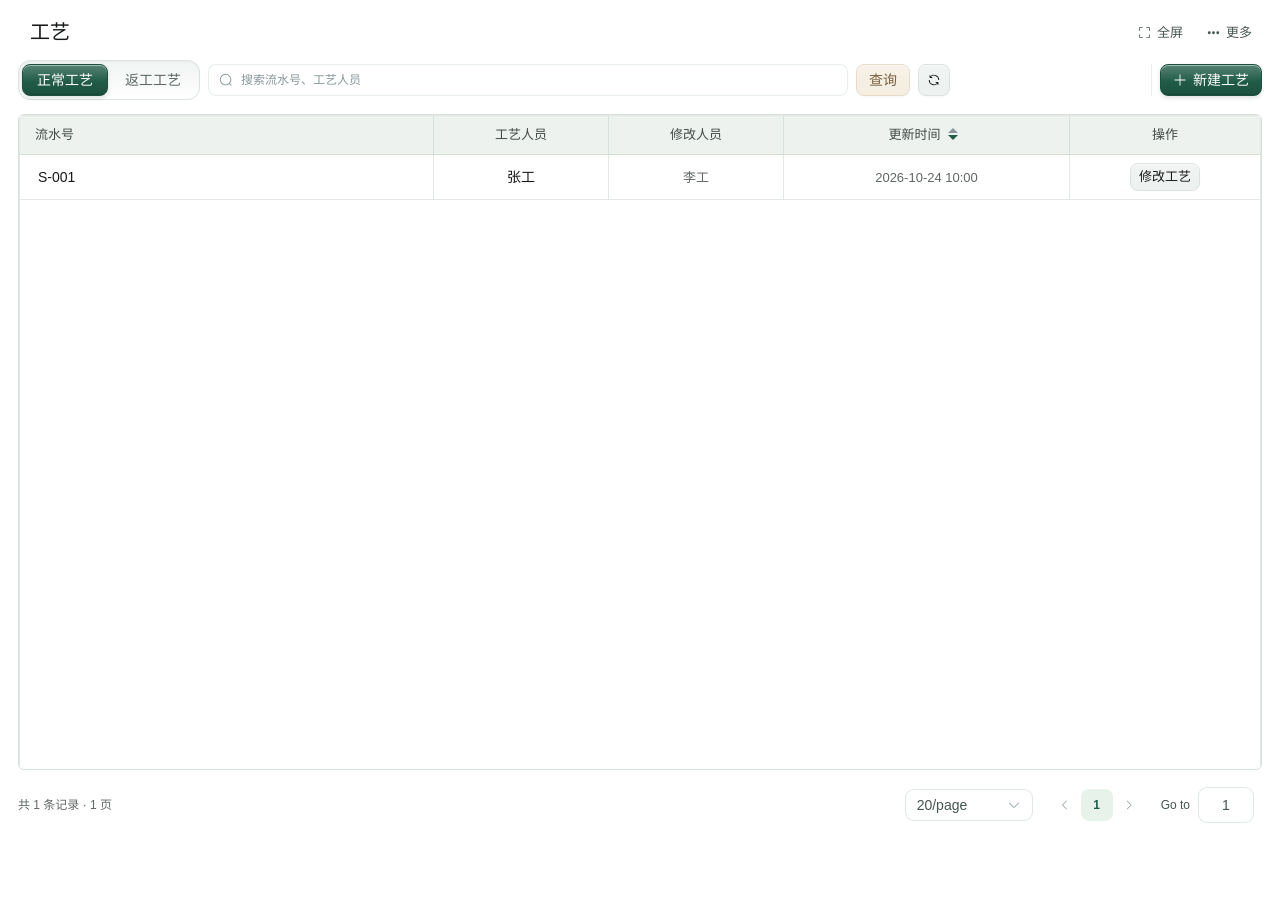
Test: shows authored rework execution teams without claiming work has finished
Click the button "返工工艺": (153, 80) 110,64 -> 196,96
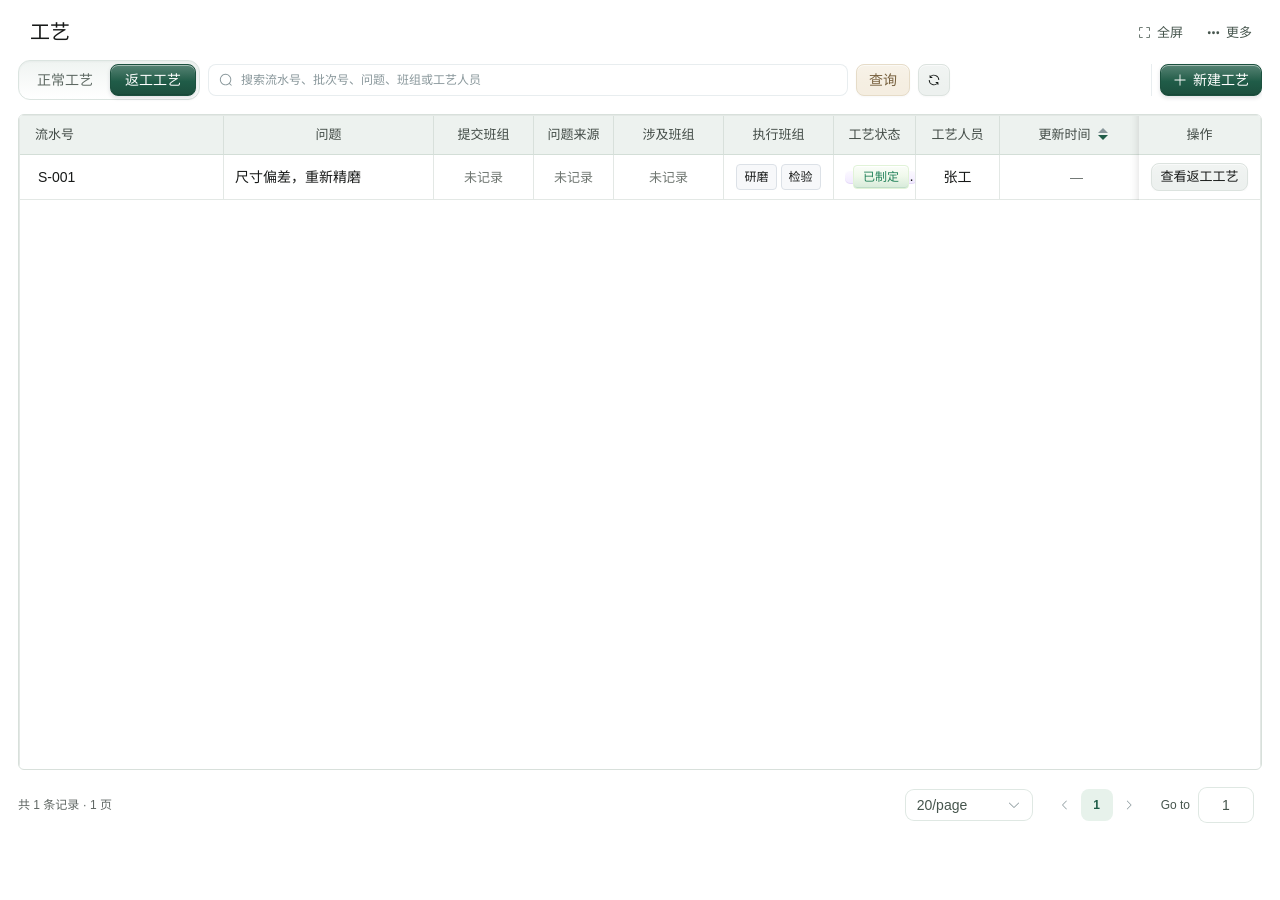
Now the text "已制定" is shown, box 863,171 -> 899,183
